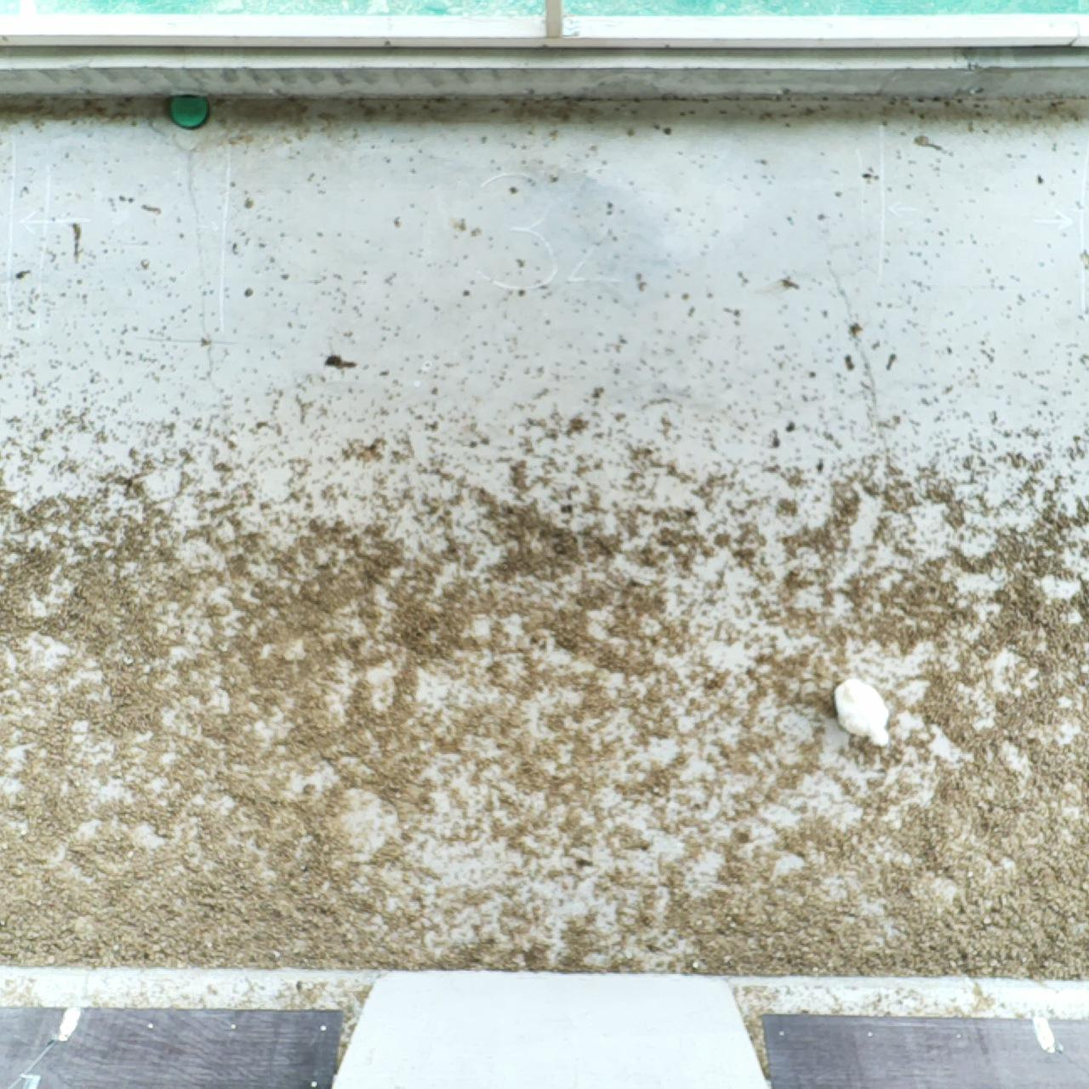chicken: (837, 679, 890, 747)
